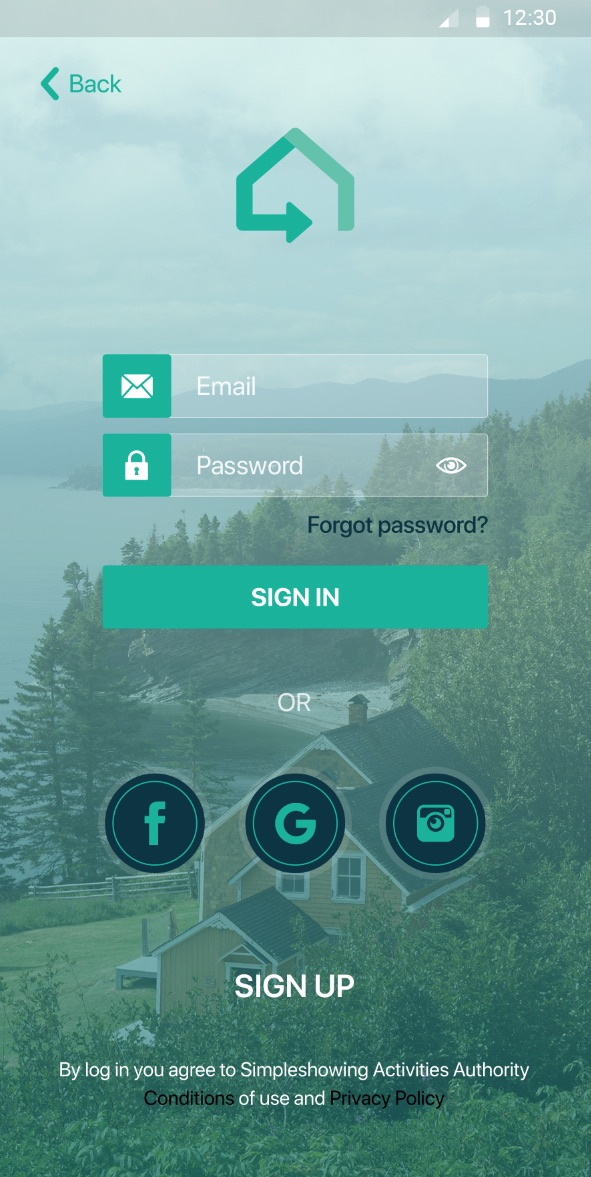BackgroundImage: (1, 38, 591, 1177)
EditText: (103, 354, 488, 419), (103, 433, 488, 498)
Icon: (105, 774, 206, 874), (386, 773, 486, 874), (246, 774, 346, 874), (122, 374, 155, 399), (125, 450, 149, 481), (41, 68, 60, 102), (436, 457, 467, 475)
Image: (236, 128, 355, 245)
Text: (60, 1061, 530, 1110), (308, 516, 488, 539), (235, 973, 355, 999), (199, 456, 304, 476), (198, 377, 256, 397), (71, 75, 123, 94), (278, 692, 312, 713)
TextButton: (103, 565, 489, 630)
UpperTaskBar: (1, 1, 591, 38)
